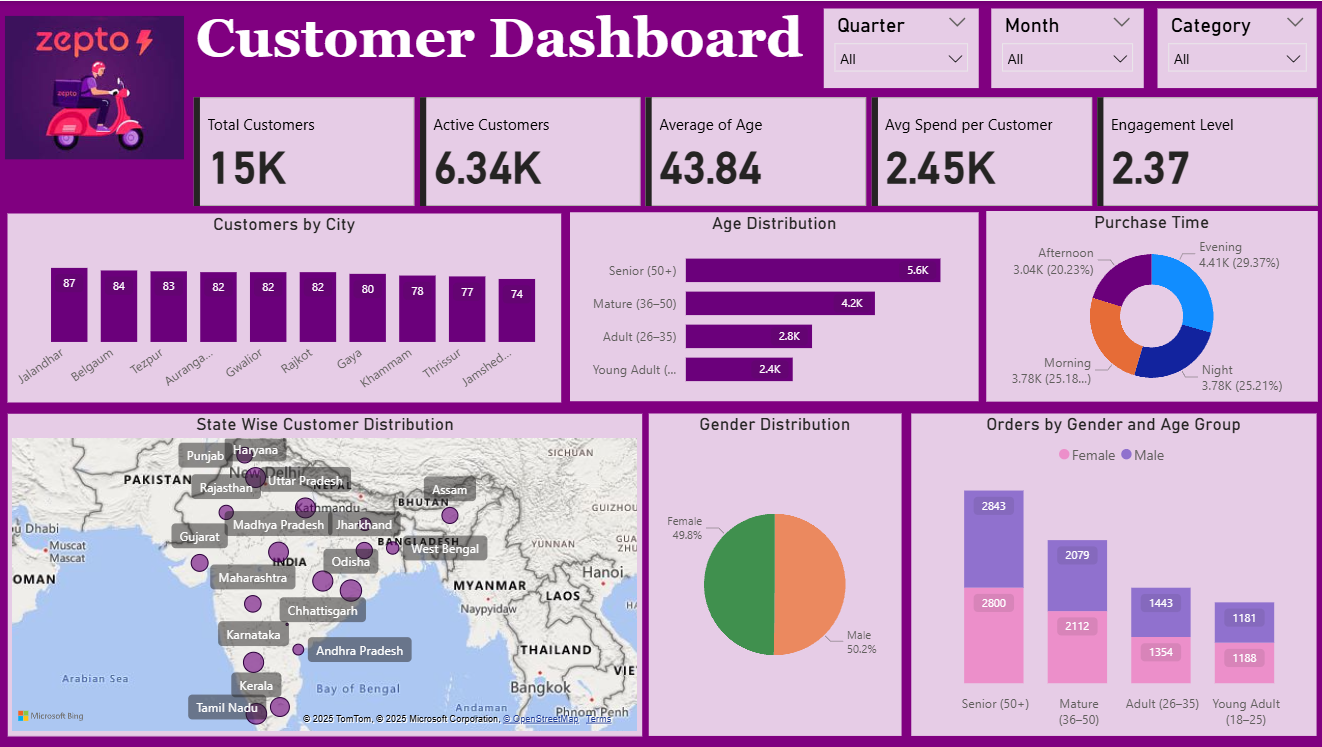

The page's visual inventory and layout, read from the dashboard file:
{"tool":"powerbi","page":{"name":"Customers","canvas":[1280,720],"ordinal":2},"visuals":[{"type":"shape","box":[0,0,170.1,144.8],"z":0},{"type":"image","box":[0,0,182.5,167.5],"z":1000},{"type":"textbox","box":[168.8,0,626.2,98.8],"z":2000},{"type":"slicer","fields":{"Values":["Customers.created_date.Variation.Date Hierarchy.Quarter"]},"box":[794.5,6.9,149.6,76.8],"z":3000},{"type":"cardVisual","fields":{"Data":["CountNonNull(Customers.C_ID)","Count(Orders.C_ID)","Avg(Customers.Age)","All Measures.Avg Spend per Customer","All Measures.Engagement Level"]},"box":[182.2,88.1,1097.9,115.8],"z":4000},{"type":"donutChart","title":"Gender Distribution","fields":{"Category":["Customers.gender"],"Y":["Count(Customers.C_ID)"]},"box":[626.1,398.1,243.7,311.3],"z":5000},{"type":"clusteredColumnChart","title":"Customers by City","fields":{"Category":["Customers.City"],"Y":["Count(Orders.C_ID)"]},"box":[7.2,205.1,534.5,182.2],"z":6000},{"type":"pieChart","title":"Purchase Time","fields":{"Category":["Orders.Hourly_Div"],"Y":["CountNonNull(Orders.Or_ID)"]},"box":[952.3,203.1,319.7,183.9],"z":7000},{"type":"slicer","fields":{"Values":["Customers.created_date.Variation.Date Hierarchy.Month"]},"box":[956.4,6.9,146.8,76.8],"z":8000},{"type":"slicer","fields":{"Values":["Products.Category"]},"box":[1117,6.9,153.7,76.8],"z":9000},{"type":"clusteredBarChart","title":"Age Distribution","fields":{"Y":["CountNonNull(Orders.Or_ID)"],"Category":["Customers.Age Group"]},"box":[550.1,203.9,394.5,182.2],"z":10000},{"type":"map","title":"State Wise Customer Distribution","fields":{"Category":["Customers.State"],"Size":["Count(Customers.C_ID)"]},"box":[7.2,398.1,612.9,311.3],"z":11000},{"type":"columnChart","title":"Orders by Gender and Age Group","fields":{"Category":["Customers.Age Group"],"Series":["Customers.gender"],"Y":["CountNonNull(Orders.Or_ID)"]},"box":[879.5,398.1,390.9,311.3],"z":12000}]}

Visuals, with their boxes in screenshot pixels (x1, y1, x2, y2), scaled from the page's 1280x720 canvas onto the 1322x747 screenshot:
shape: 0/0/176/150
image: 0/0/188/174
textbox: 174/0/821/103
slicer - Customers.created_date.Variation.Date Hierarchy.Quarter: 821/7/975/87
cardVisual - CountNonNull(Customers.C_ID) x Count(Orders.C_ID): 188/91/1321/212
"Gender Distribution" donutChart: 647/413/898/736
"Customers by City" clusteredColumnChart: 7/213/559/402
"Purchase Time" pieChart: 984/211/1314/402
slicer - Customers.created_date.Variation.Date Hierarchy.Month: 988/7/1139/87
slicer - Products.Category: 1154/7/1312/87
"Age Distribution" clusteredBarChart: 568/212/976/401
"State Wise Customer Distribution" map: 7/413/640/736
"Orders by Gender and Age Group" columnChart: 908/413/1312/736
